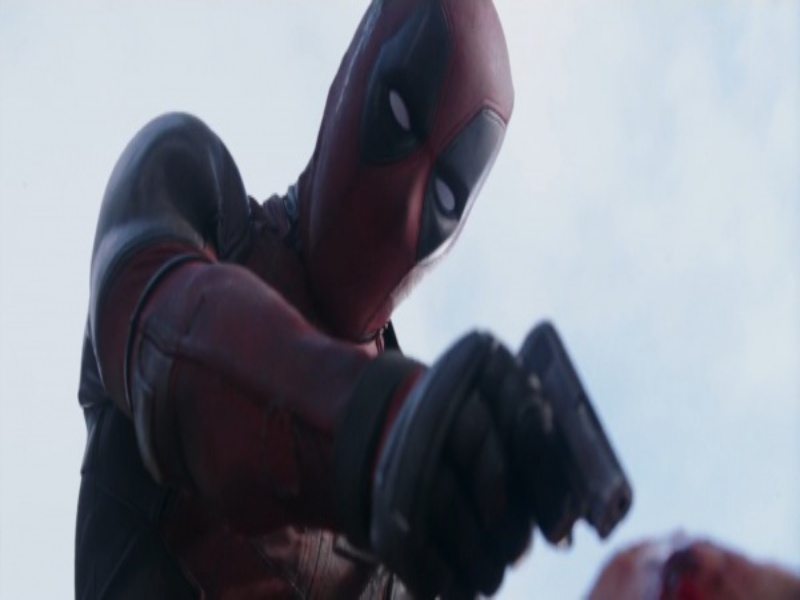person: (65, 1, 524, 596)
weapon: (482, 317, 637, 537)
